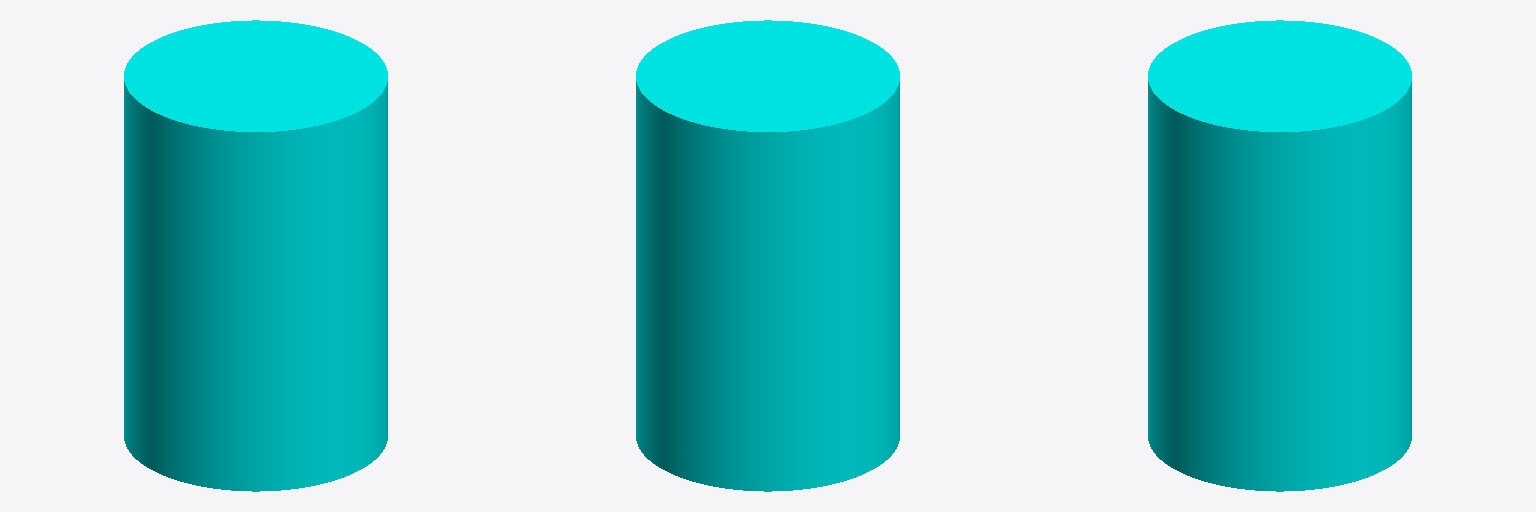
robot.urdf — cylinder:
<?xml version="1.0"?>
<robot name="cylinder">
  <material name="Cyan">
    <color rgba="0 1.0 1.0 1.0"/>
  </material>
  
 <link name="cylinder">
    <contact>
      <friction_anchor/>
      <lateral_friction value="0.5"/>
      <rolling_friction value="30.0"/>
      <spinning_friction value="30.0"/>
    </contact>

    <inertial>
      <origin xyz="0 0 0" rpy="0 0 0"/>
      <mass value="0.15"/>
      <inertia ixx=" 0"  ixy="0"  ixz="0" iyy=" 0" iyz="0" izz="0" />
    </inertial>

    <visual>
      <origin xyz="-0.025 -0.025 -0.03750" rpy="0 0 0" />
        <geometry>
            <mesh filename="cylinder.STL" scale="0.001 0.001 0.001"/>
        </geometry>
      <!-- <origin xyz="0 0 0" rpy="0 0 0"/>
        <geometry>
          <cylinder radius="0.025" length="0.075"/>
        </geometry> -->
        <material name="Cyan"/>
    </visual>

    <collision>
      <origin xyz="0 0 0" rpy="0 0 0"/>
      <geometry>
       <cylinder radius="0.025" length="0.075"/>
      </geometry>
    </collision>
  </link>
</robot>

--- Render facts (derived) ---
Views: 3 orthographic renders of the robot side by side, from view 1: azimuth 30°, elevation 25°; view 2: azimuth 150°, elevation 25°; view 3: azimuth 270°, elevation 25°.
Robot: cylinder — 1 links, 0 joints (none); root link cylinder; default pose: all joints at 0.
Visible links, largest first — view 1: cylinder; view 2: cylinder; view 3: cylinder.
Link boxes in pixels (x1,y1,x2,y2): cylinder: [124, 20, 387, 491]; cylinder: [636, 20, 899, 491]; cylinder: [1148, 20, 1411, 491].
Bounding box of the posed robot: 0.05 × 0.05 × 0.075 m (x, y, z).
Meshes: 1 distinct files referenced, 1 mesh visuals loaded (1 binary STL).